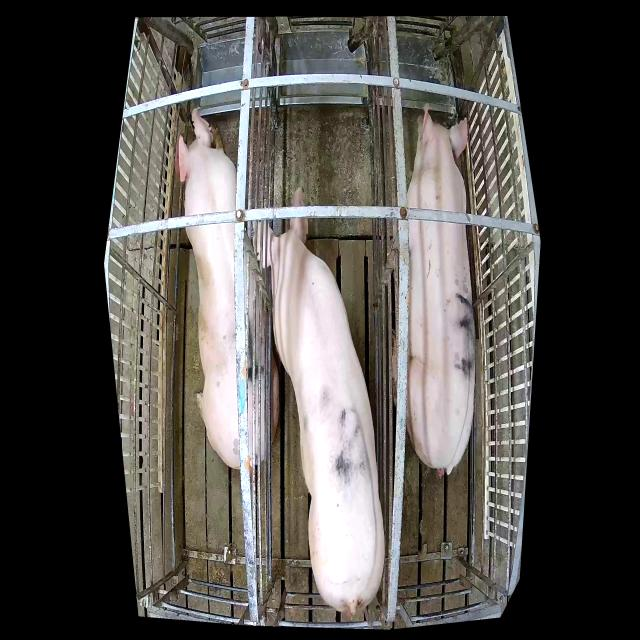pig: (249, 189, 385, 618), (174, 107, 279, 467), (406, 107, 476, 476)
